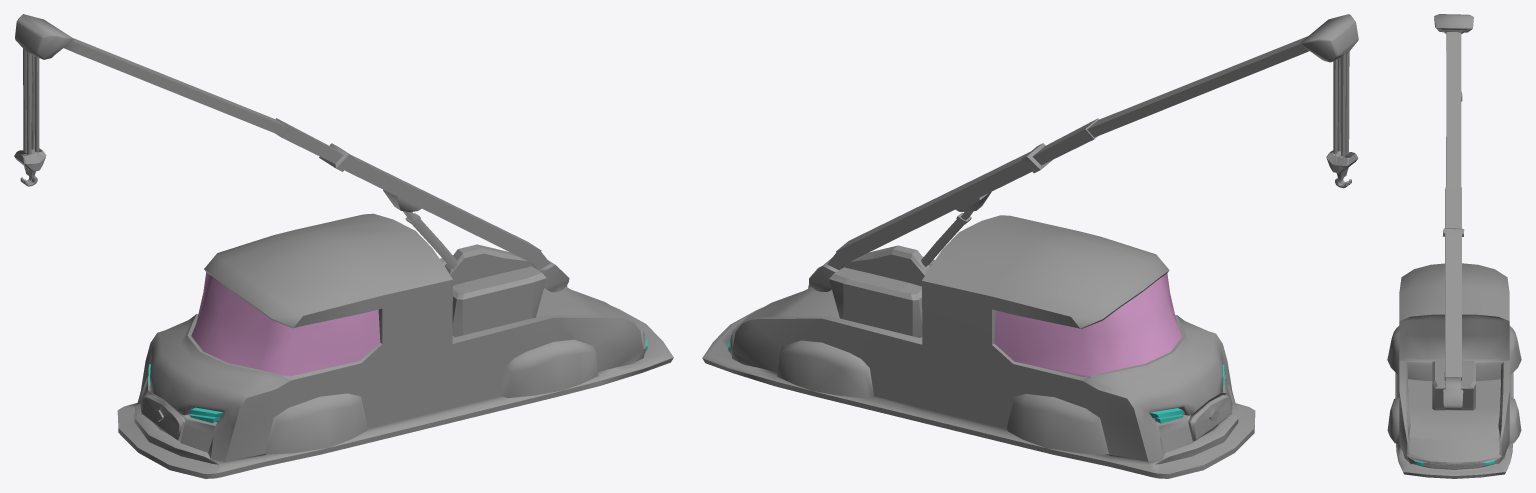
The model's file is coche.FBX.
3 renders of one model, left to right at view 1: azimuth 30°, elevation 25°; view 2: azimuth 150°, elevation 25°; view 3: azimuth 270°, elevation 25°, orthographic. The views are drawn at different scales.
Parts seen in each view (by area): view 1: coche; view 2: coche; view 3: coche.
Boxes of the visible parts, bbox=[...] form: coche: bbox=[14, 14, 673, 478]; coche: bbox=[702, 14, 1358, 478]; coche: bbox=[1387, 14, 1521, 478].
Bounding box in the file's own units: 630 × 436 × 189.
